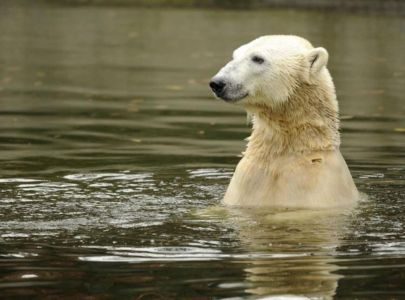bear: (208, 30, 362, 206)
